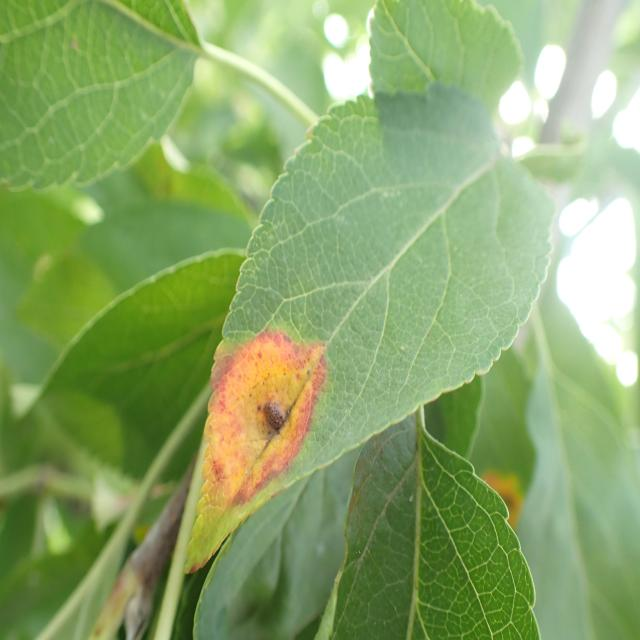Rust: (190, 301, 336, 559)
